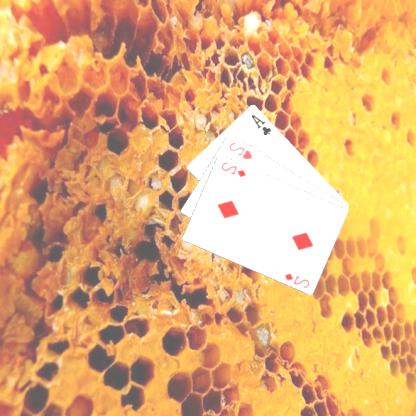2D: (283, 270, 313, 289), (220, 159, 249, 178)
2H: (228, 139, 256, 161)
AC: (250, 111, 275, 137)
